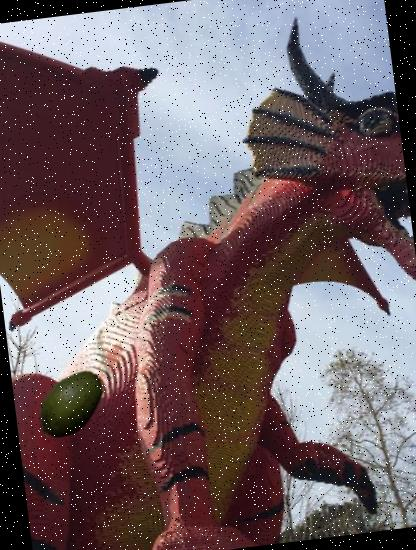Avocado: (28, 361, 114, 447)
